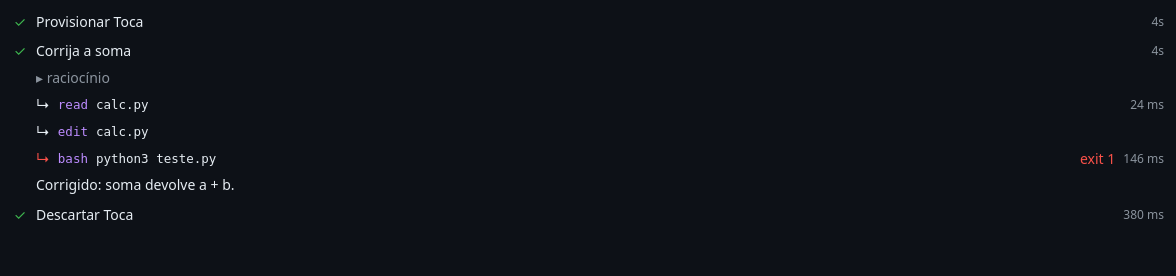
Test: Timeline › a saída da tool abre ao clicar
The width and height of the screenshot is (1176, 276).
Check: the text "AssertionError" is not shown
Step 1. Click the text "python3 teste.py" → click(156, 158), box [96,151,216,166]
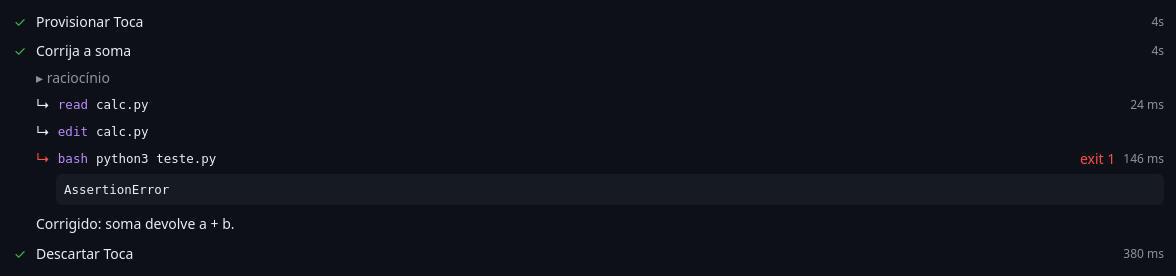
Check: the text "AssertionError" is shown, box [56,174,1164,205]
